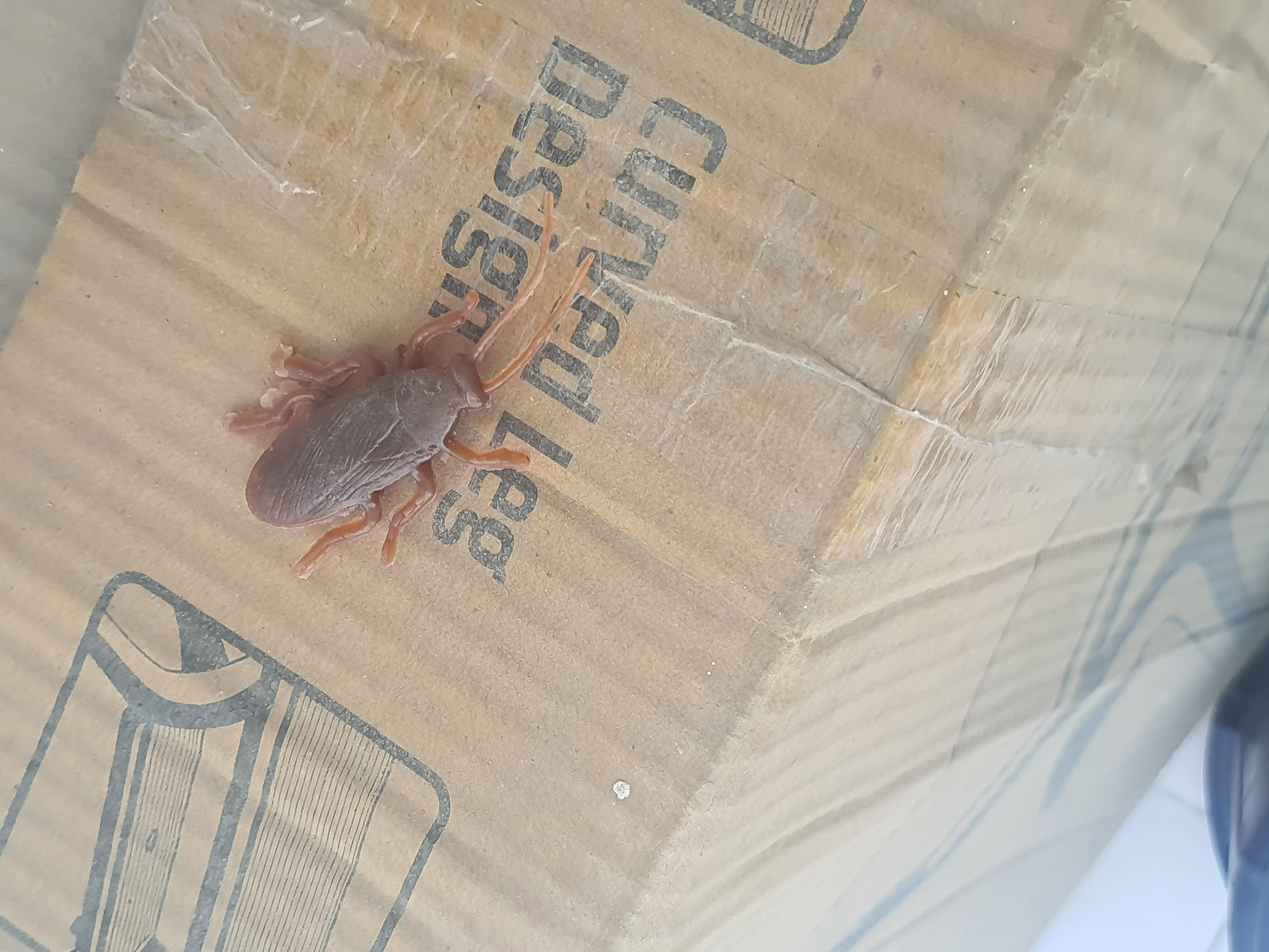cockroach: (481, 165, 974, 446)
